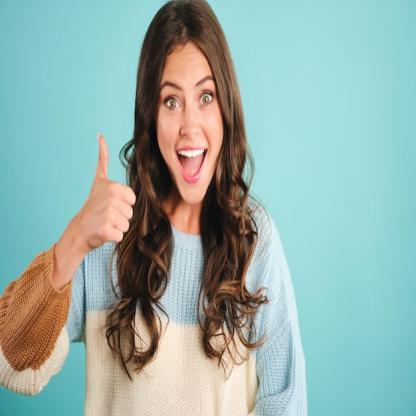thumb_up: (74, 129, 136, 251)
